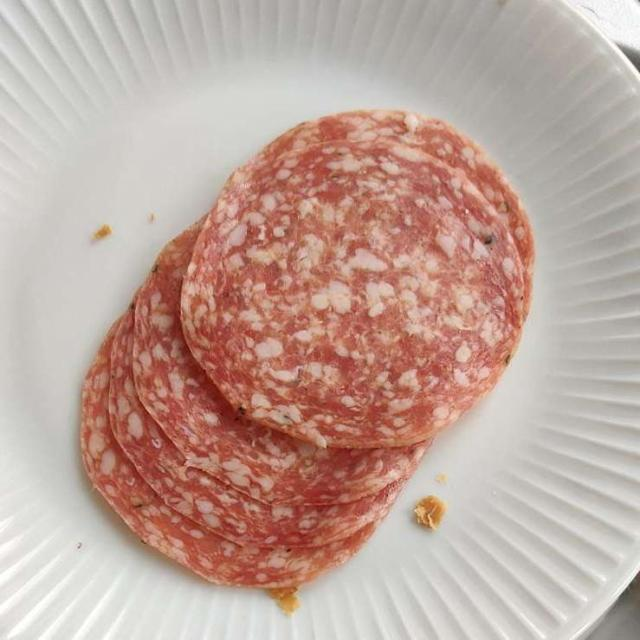salami: (65, 122, 536, 603)
